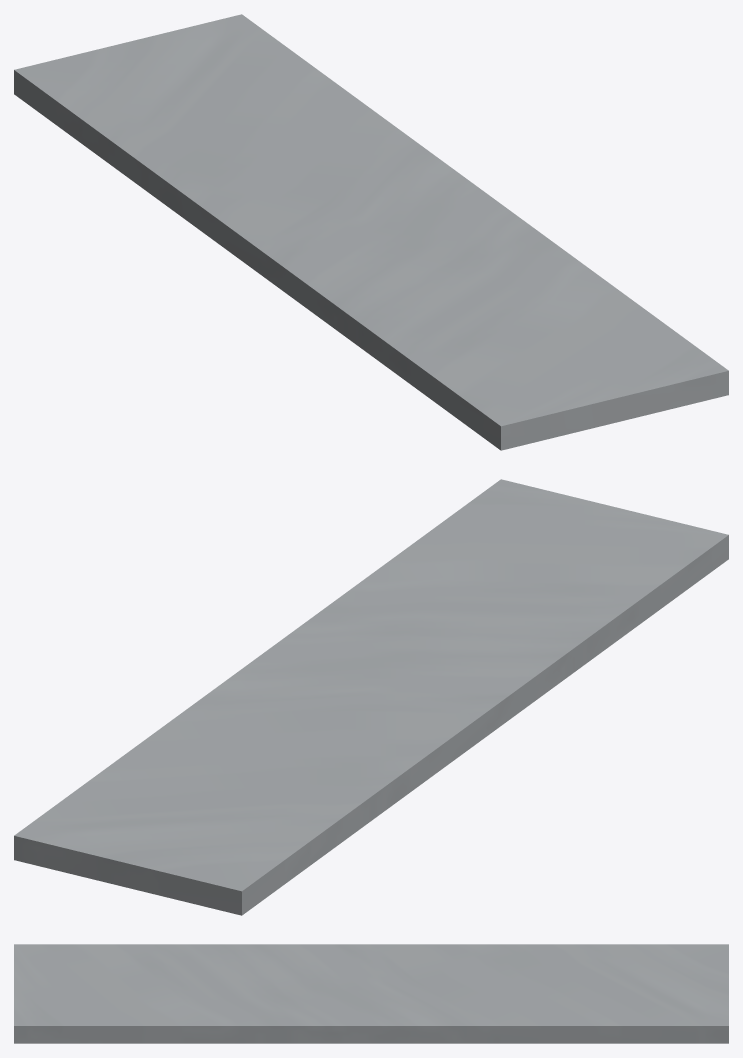
Rendered from Tutorial_ShelfLayer_Shelf.fbx.
3 renders of one model, top to bottom at view 1: azimuth 30°, elevation 25°; view 2: azimuth 150°, elevation 25°; view 3: azimuth 270°, elevation 25°, orthographic. The views are drawn at different scales.
Parts seen in each view (by area): view 1: polySurface3; view 2: polySurface3; view 3: polySurface3.
Boxes of the visible parts, <box> form: polySurface3: <box>14,14,728,450</box>; polySurface3: <box>14,479,728,915</box>; polySurface3: <box>14,944,728,1043</box>.
Size of the model in its own units: 3.42 by 0.3491 by 12.65.
